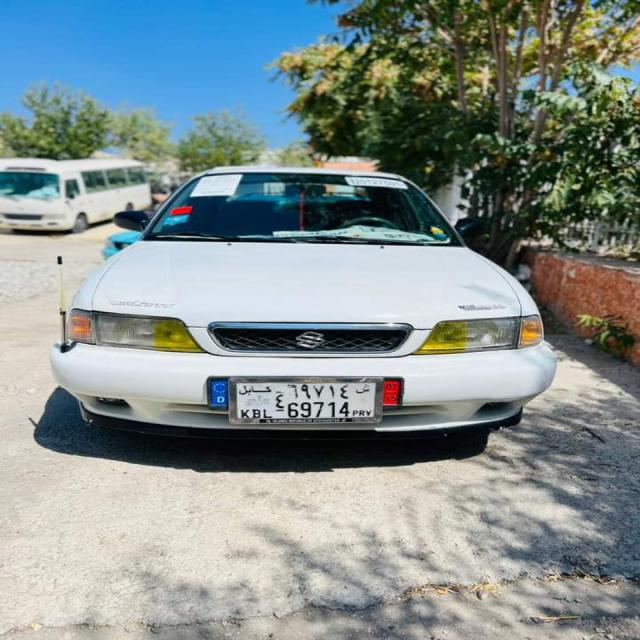Plate: (234, 381, 378, 420)
